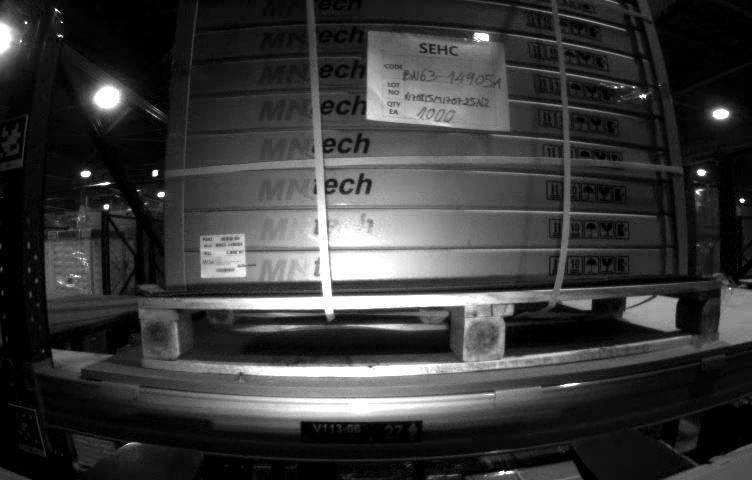True Barcode: (199, 233, 249, 279)
